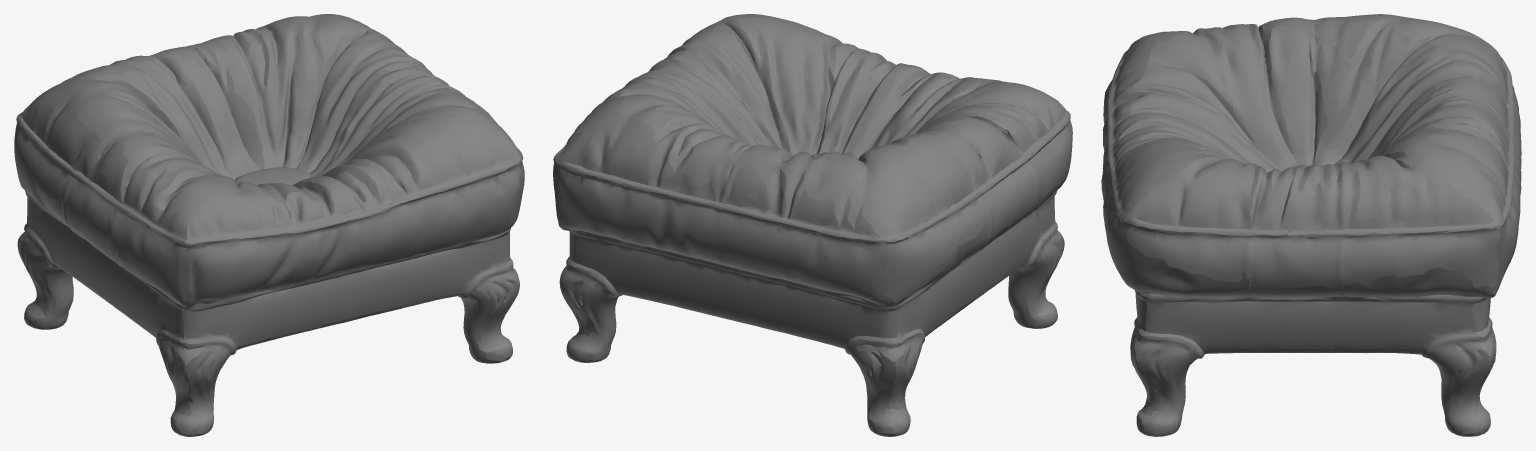
File: completion_ottoman_2.glb
The picture shows the model from 3 angles, left to right: view 1: azimuth 30°, elevation 25°; view 2: azimuth 150°, elevation 25°; view 3: azimuth 270°, elevation 25°; orthographic projection. The views are drawn at different scales.
Parts seen in each view (by area): view 1: geometry_0; view 2: geometry_0; view 3: geometry_0.
Part boxes in pixels (x1=…): geometry_0: x1=14, y1=14, x2=524, y2=436; geometry_0: x1=553, y1=14, x2=1072, y2=436; geometry_0: x1=1101, y1=14, x2=1521, y2=436.
Bounding box in the file's own units: 1 × 0.6249 × 0.8939.
Materials: 1 (1 with a texture image).
